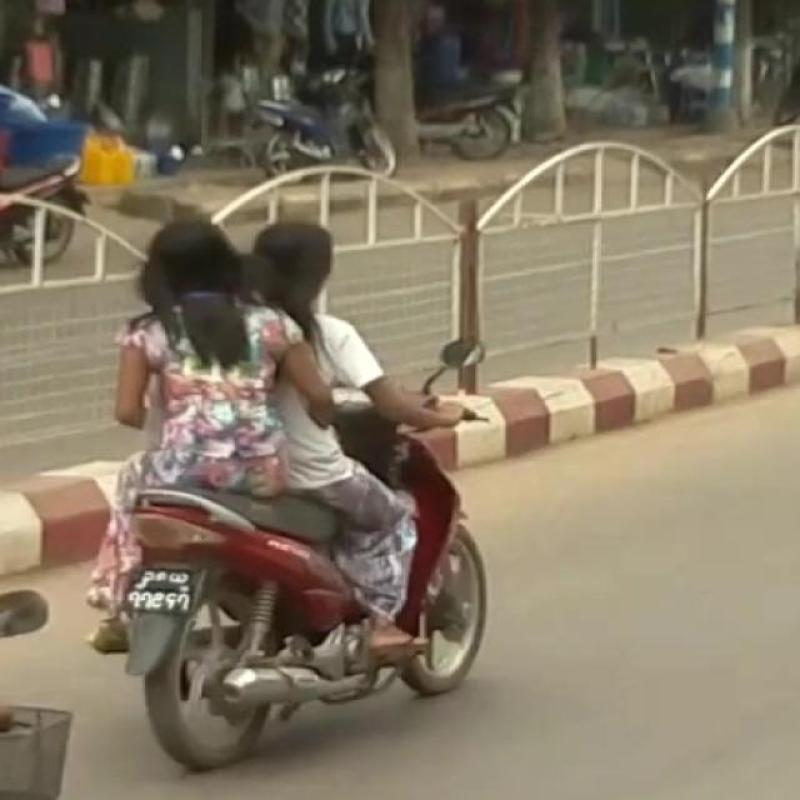nohelmet: (124, 215, 255, 324), (264, 206, 378, 320)
